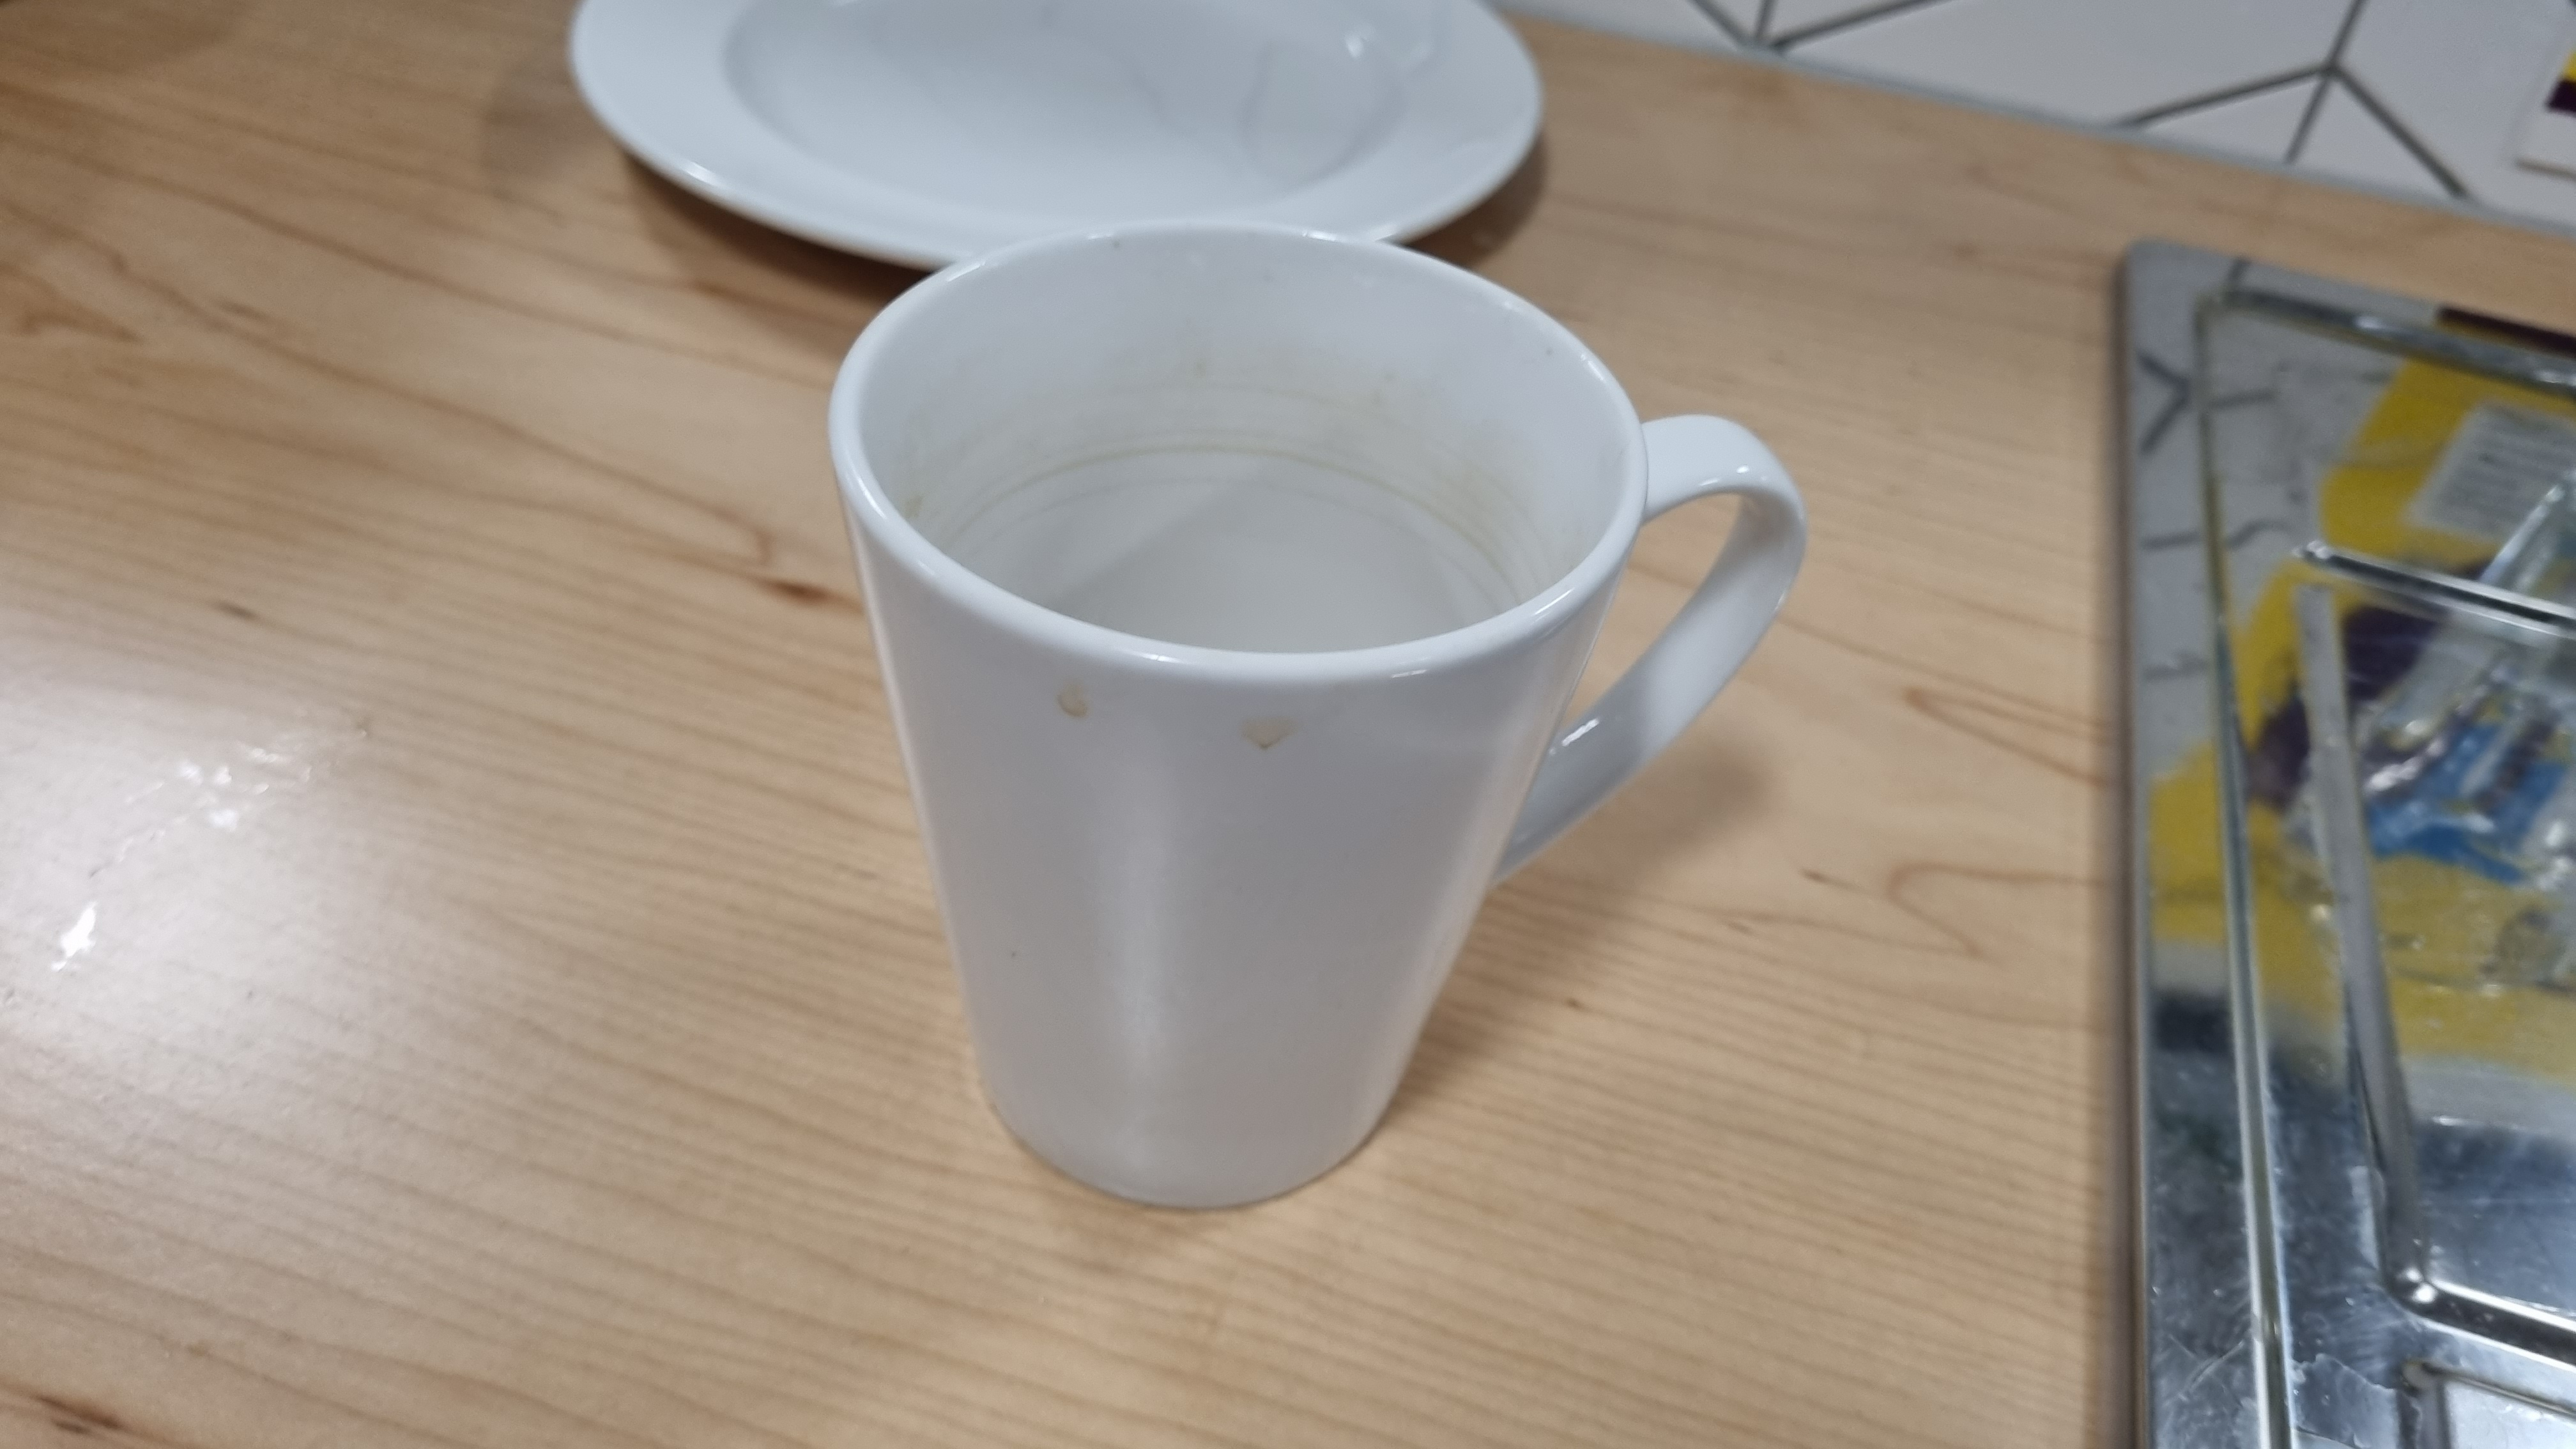cup: (809, 198, 1836, 1231)
